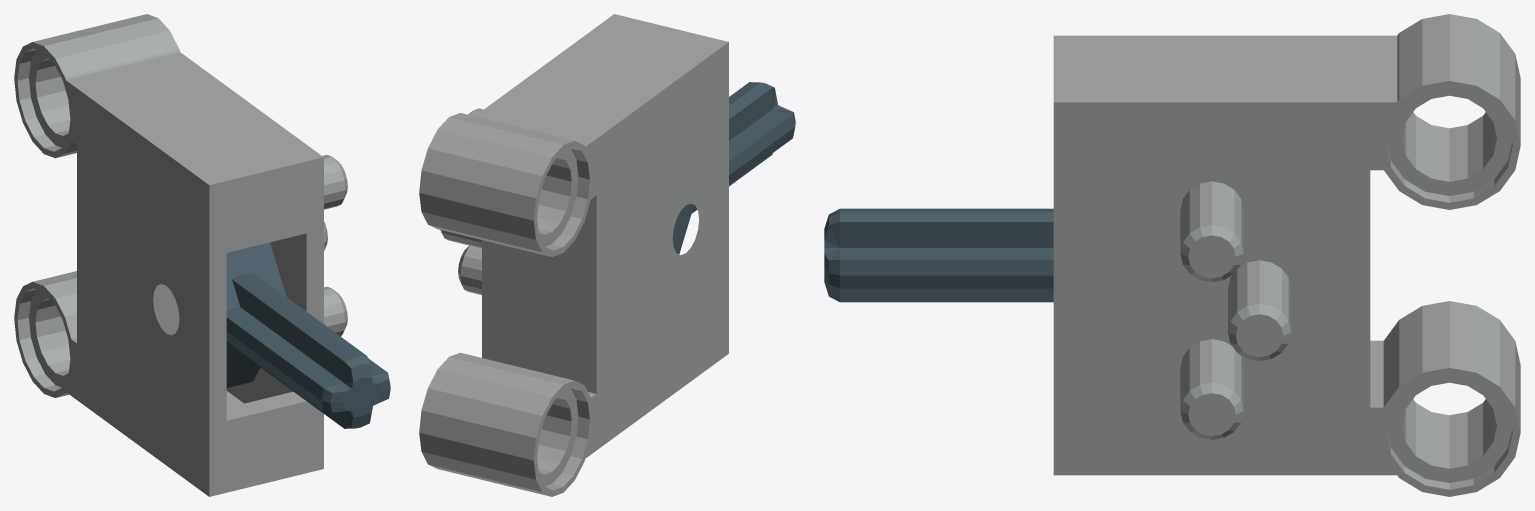
3 renders of one model, left to right at view 1: azimuth 30°, elevation 25°; view 2: azimuth 150°, elevation 25°; view 3: azimuth 270°, elevation 25°, orthographic. The views are drawn at different scales.
Parts seen in each view (by area): view 1: world; view 2: world; view 3: world.
Part boxes in pixels (x1=…): world: x1=14, y1=14, x2=390, y2=496; world: x1=419, y1=14, x2=795, y2=496; world: x1=824, y1=14, x2=1520, y2=496.
Bounding box in the file's own units: 0.0136 × 0.0232 × 0.0352.
